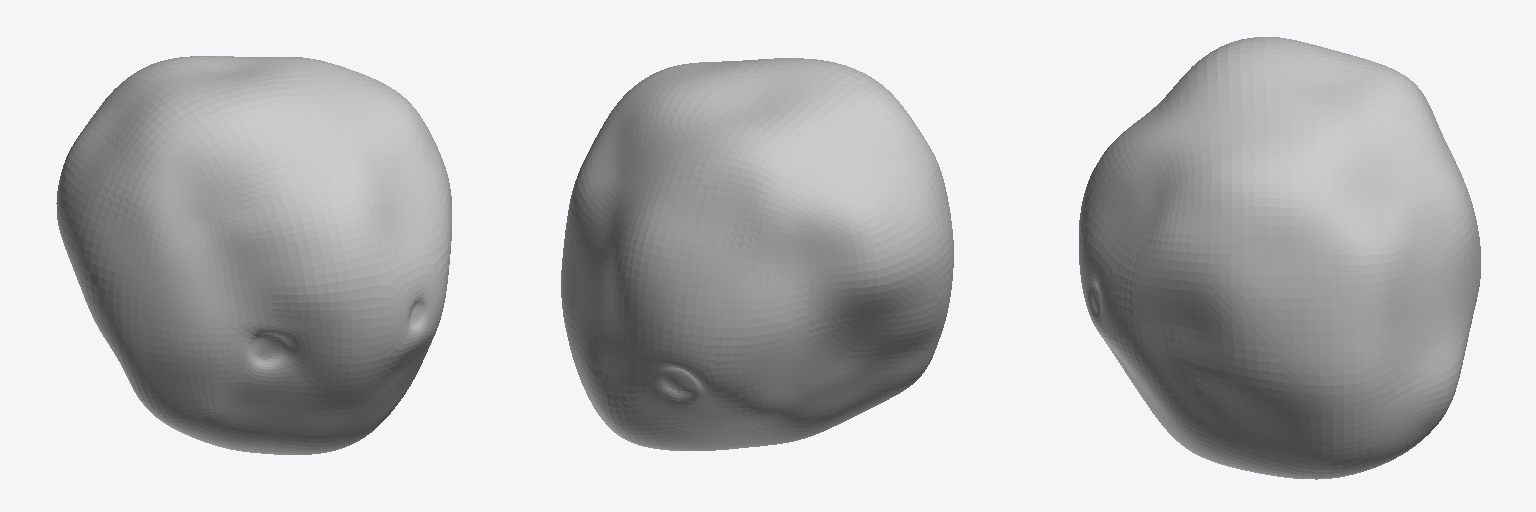
The model's file is 10464_Asteroid_v1_Iterations-2-2x.obj.
3 renders of one model, left to right at view 1: azimuth 30°, elevation 25°; view 2: azimuth 150°, elevation 25°; view 3: azimuth 270°, elevation 25°, orthographic.
Visible parts, largest first — view 1: 10464_Asteroid_v1_Iterations-2; view 2: 10464_Asteroid_v1_Iterations-2; view 3: 10464_Asteroid_v1_Iterations-2.
Boxes of the visible parts, box(x1,y1,x2,y2) form: 10464_Asteroid_v1_Iterations-2: box(56, 56, 451, 454); 10464_Asteroid_v1_Iterations-2: box(561, 58, 953, 450); 10464_Asteroid_v1_Iterations-2: box(1079, 37, 1480, 479).
Bounding box in the file's own units: 19.93 × 20.19 × 20.1.